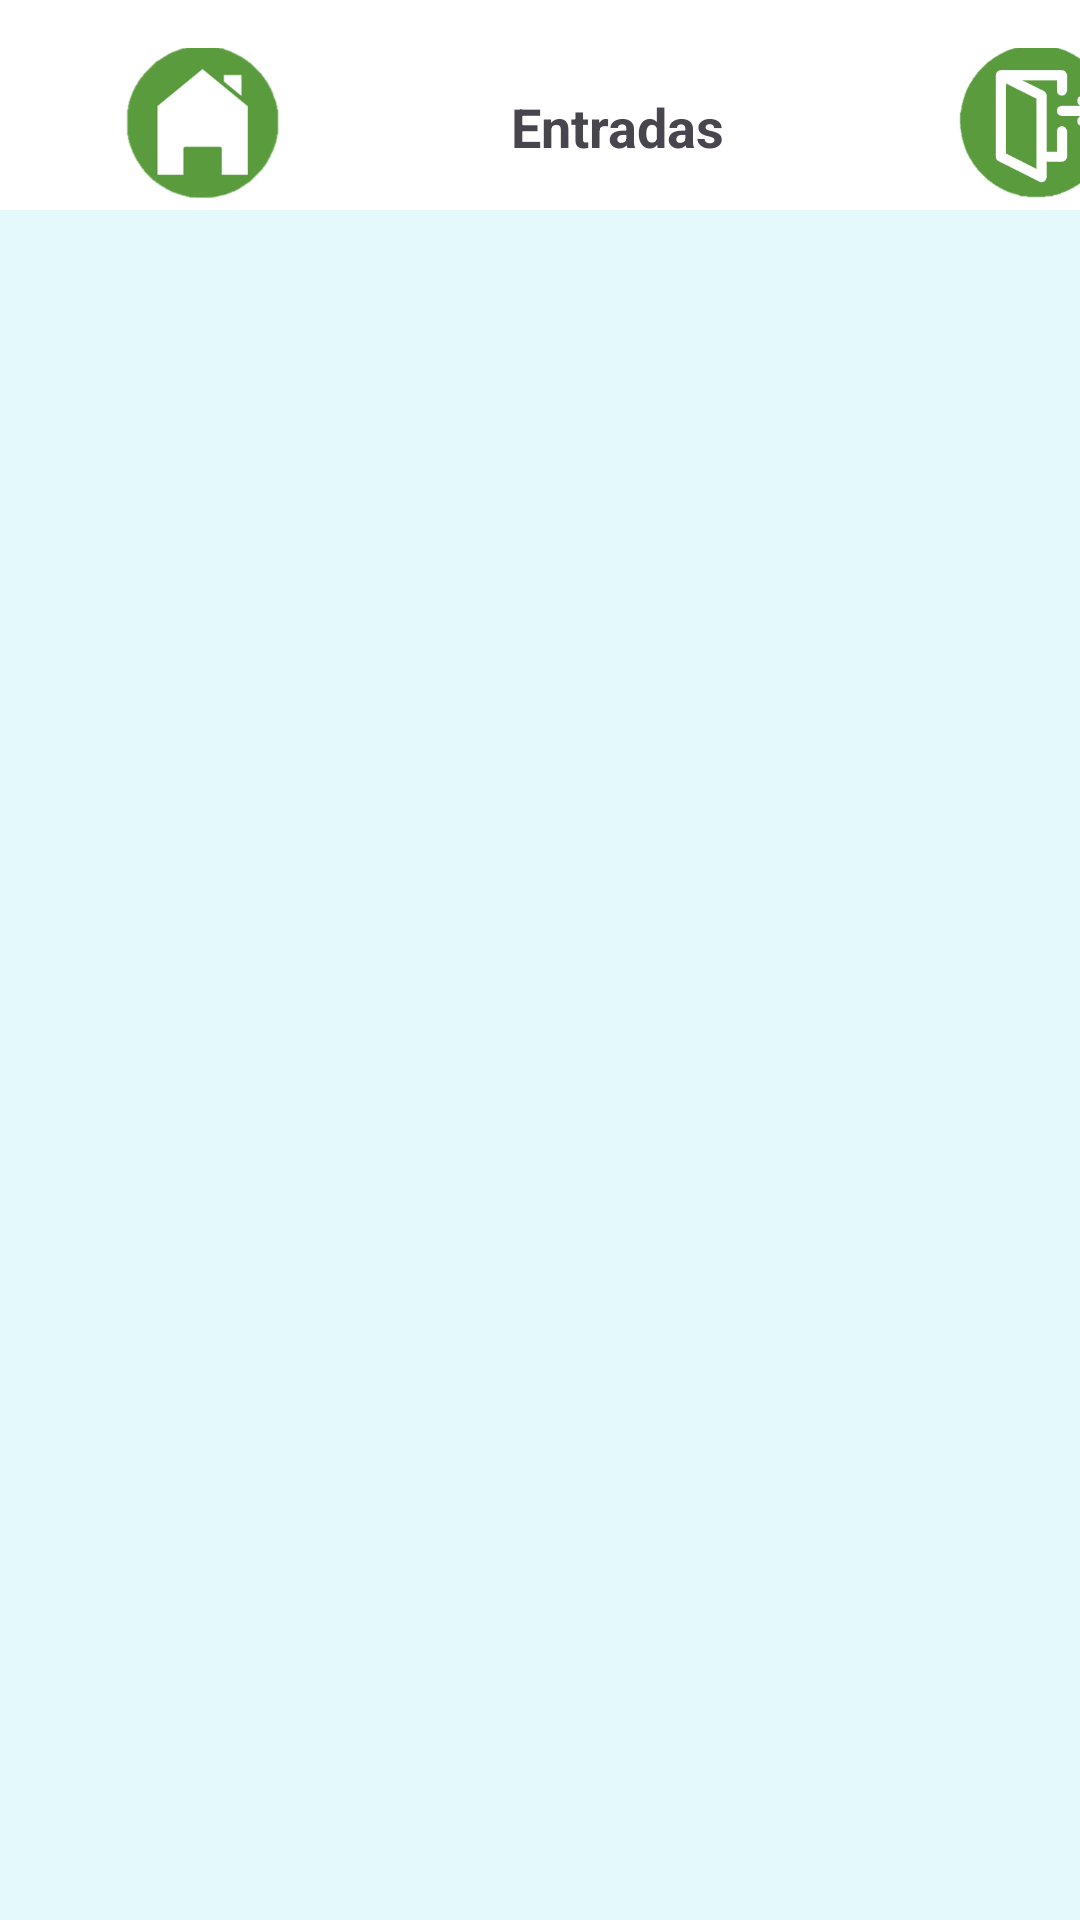

Screen size 1080*1920. Icon name, then its box in pixels as rect(x1, y1, x2, y2):
casa sf: rect(127, 48, 279, 198)
